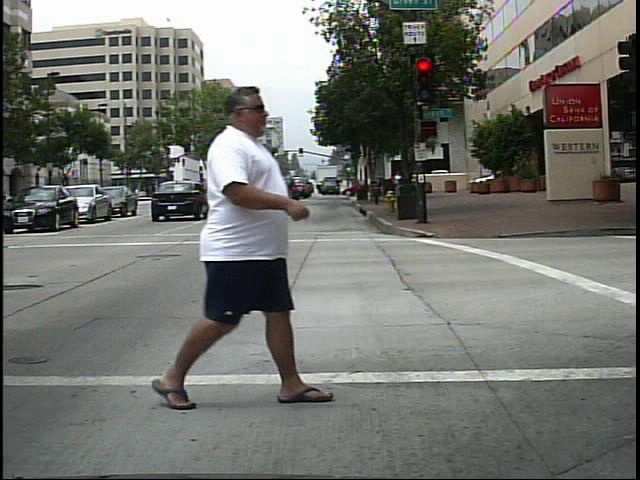person: (160, 77, 324, 413)
